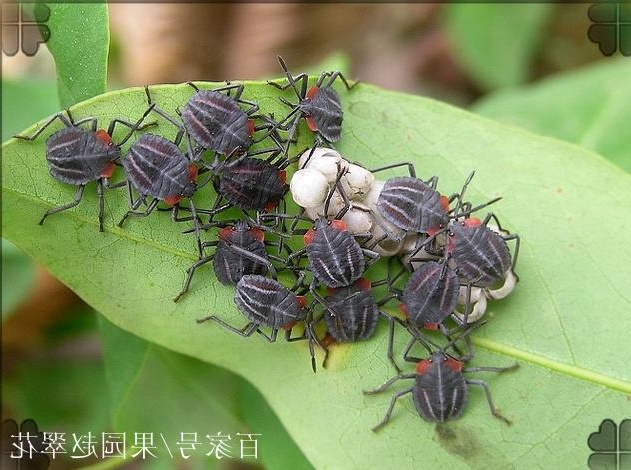Stink_Bug: (171, 198, 294, 289), (216, 153, 355, 229), (99, 132, 206, 222), (369, 251, 472, 339), (377, 353, 494, 428), (286, 278, 384, 349), (15, 125, 121, 188), (203, 273, 312, 325), (186, 77, 254, 160), (445, 214, 523, 284), (373, 175, 459, 237), (280, 62, 344, 140), (300, 244, 368, 287)
